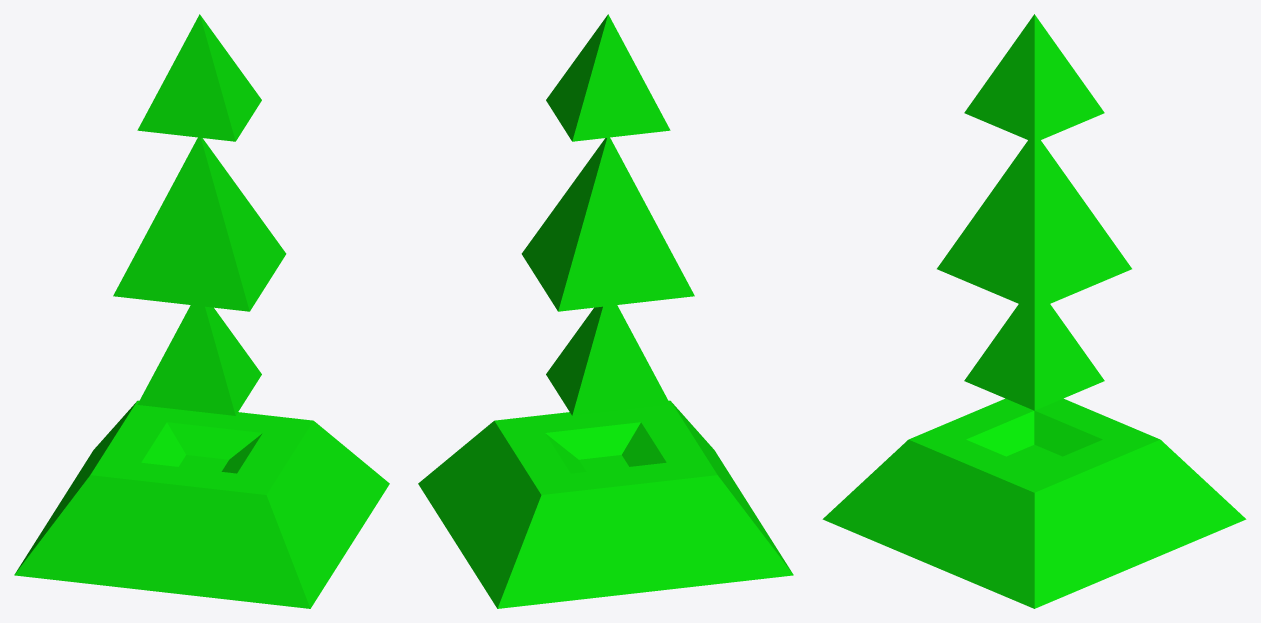
File: tri_art_piece_1.fbx
3 views of the same model, side by side, from view 1: azimuth 30°, elevation 25°; view 2: azimuth 150°, elevation 25°; view 3: azimuth 270°, elevation 25° (orthographic). The views are drawn at different scales.
Parts seen in each view (by area): view 1: pCube15; view 2: pCube15; view 3: pCube15.
Boxes of the visible parts, box(x1,y1,x2,y2) form: pCube15: box(14, 14, 389, 608); pCube15: box(418, 14, 793, 608); pCube15: box(822, 14, 1246, 608).
Bounding box in the file's own units: 5.33 × 6.99 × 5.33.
